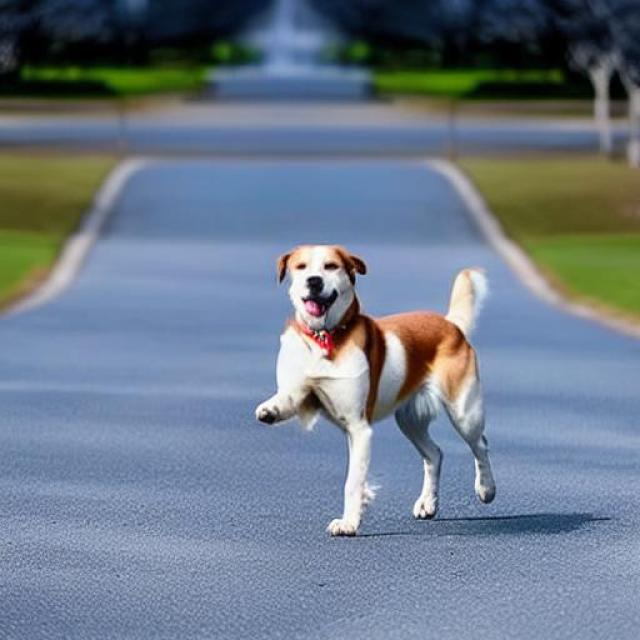Dog: (256, 245, 498, 538)
